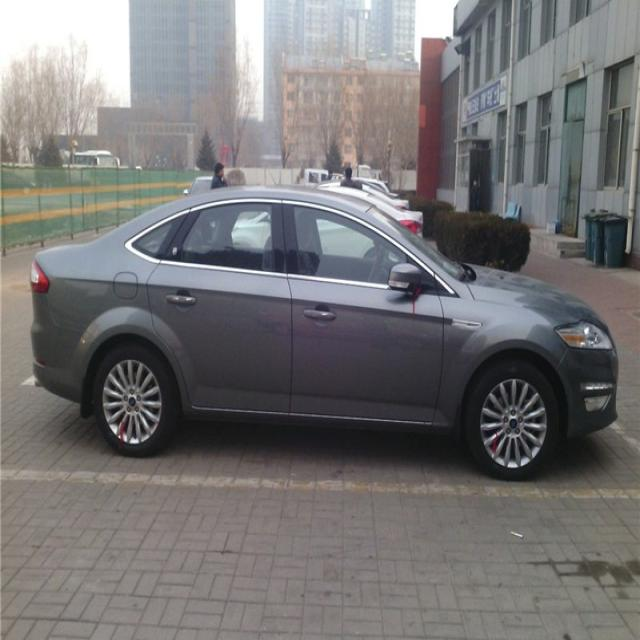back_right_side_light: (29, 256, 50, 296)
door: (143, 202, 291, 438)
front_bumper: (555, 346, 621, 438)
front_right_side_door: (279, 195, 447, 431)
front_right_side_light: (552, 316, 614, 353)
front_right_side_mirror: (387, 260, 425, 302)
rear_bumper: (29, 296, 96, 416)
wheel: (468, 359, 556, 481), (94, 342, 177, 455)
